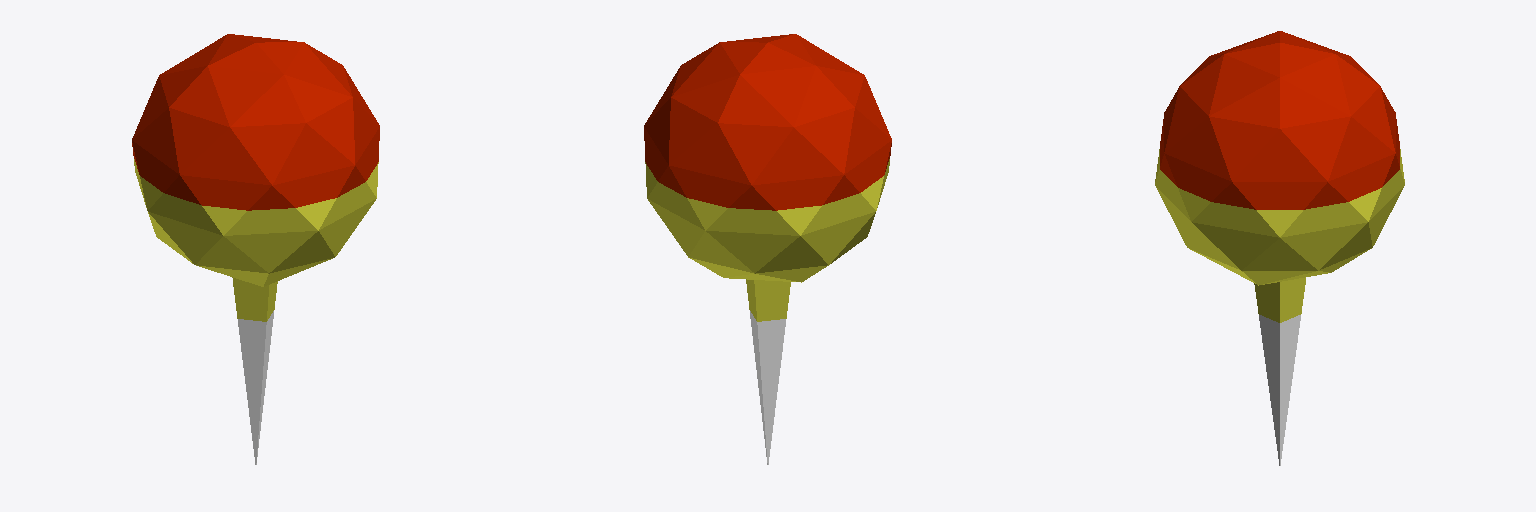
The picture shows the model from 3 angles: view 1: azimuth 30°, elevation 25°; view 2: azimuth 150°, elevation 25°; view 3: azimuth 270°, elevation 25°; orthographic projection.
Parts seen in each view (by area): view 1: vsn_mesh_0__mesh_0_.008; view 2: vsn_mesh_0__mesh_0_.008; view 3: vsn_mesh_0__mesh_0_.008.
Part boxes in pixels (bbox=[...]): vsn_mesh_0__mesh_0_.008: bbox=[132, 34, 379, 464]; vsn_mesh_0__mesh_0_.008: bbox=[644, 34, 891, 464]; vsn_mesh_0__mesh_0_.008: bbox=[1155, 31, 1404, 465].
Size of the model in its own units: 5.85 by 11 by 5.85.
Materials: 1 (1 with a texture image).